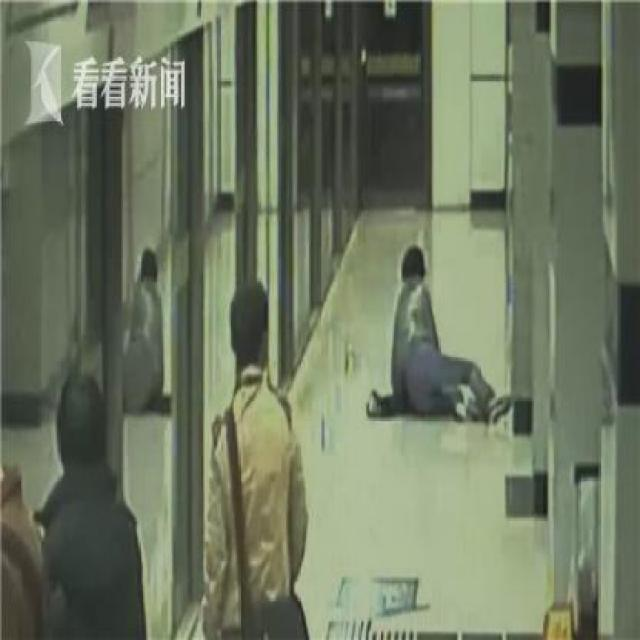fall: (105, 239, 172, 412)
